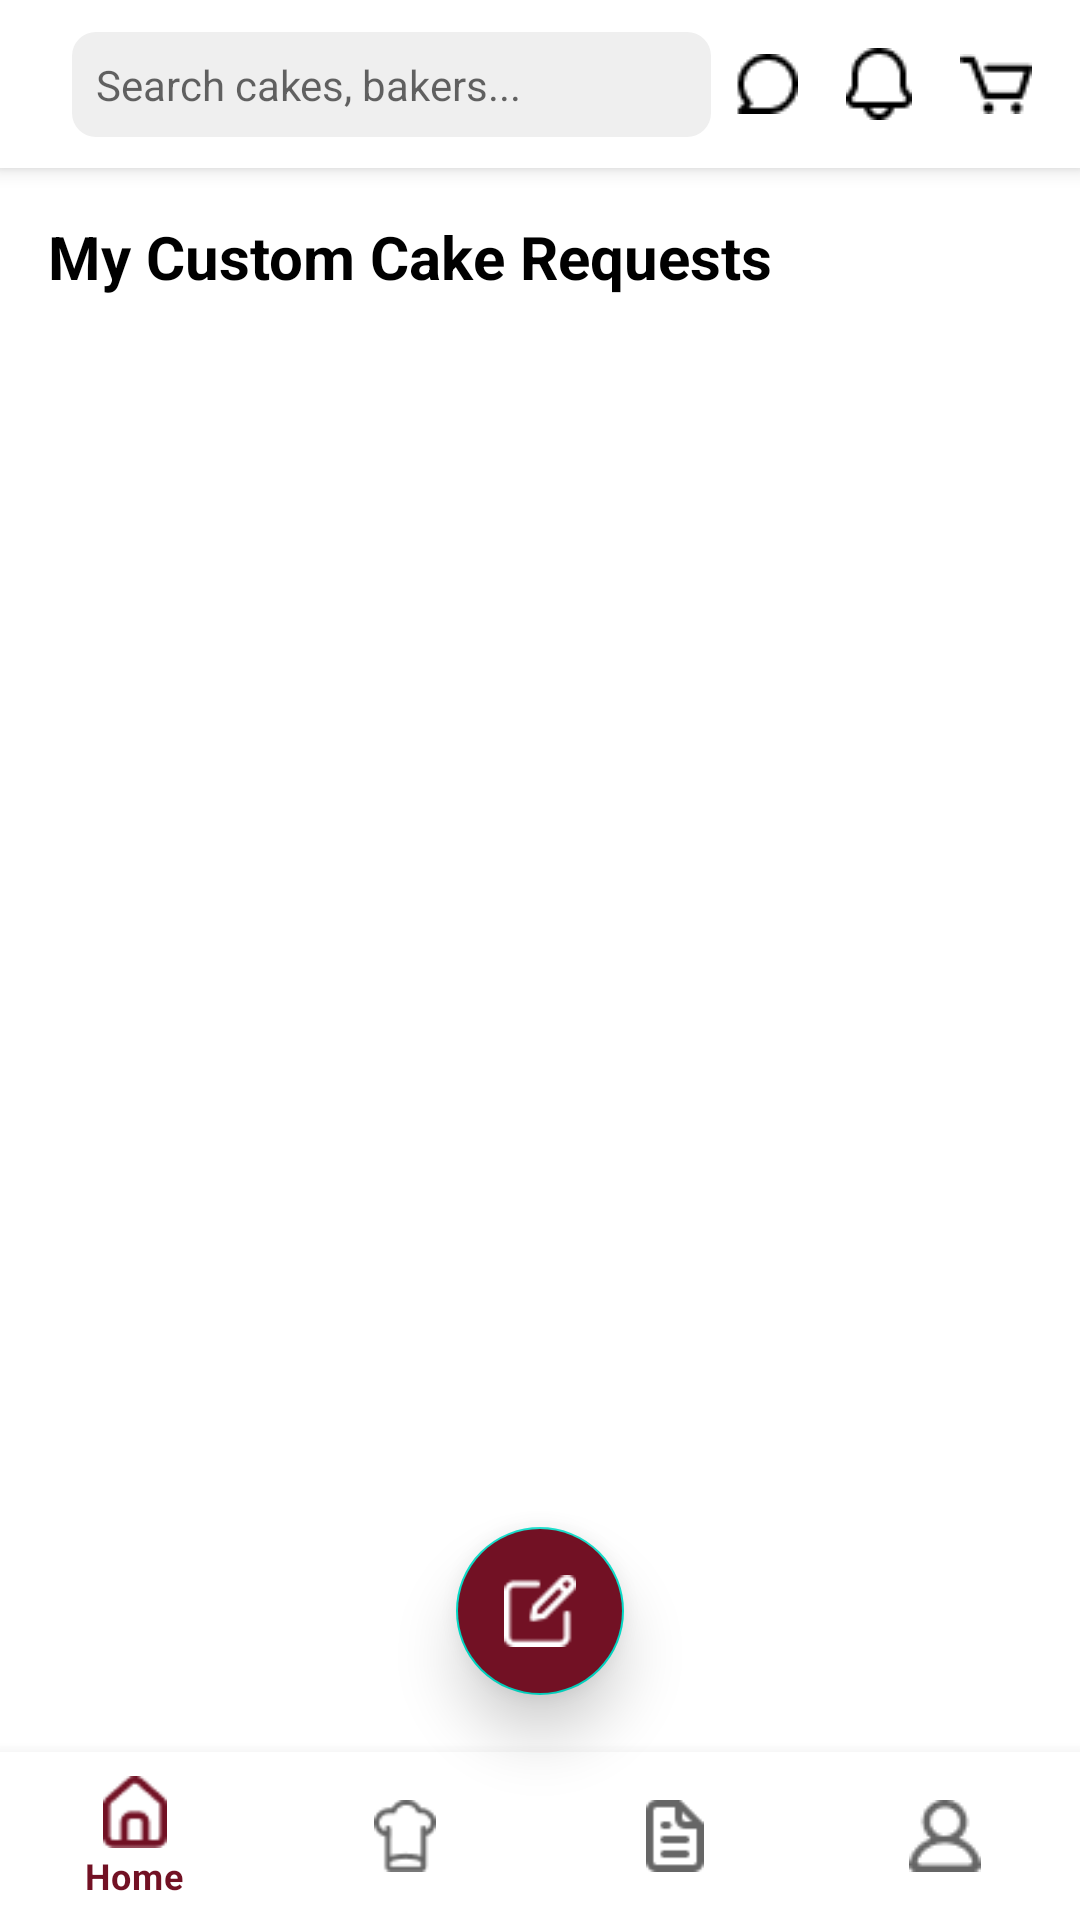

Named icons in this screenshot (1080*1920) and their bounding boxes, [x1=x1, y1=y1, x2=x2, y2=y2]:
Cart: [x1=960, y1=54, x2=1032, y2=114]
Chat: [x1=737, y1=54, x2=798, y2=114]
Notifications: [x1=846, y1=48, x2=912, y2=120]
